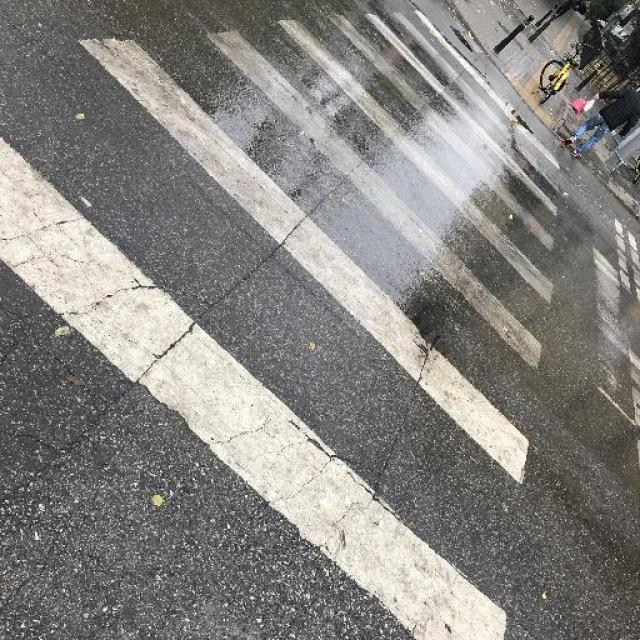faded_crosswalk: (0, 11, 563, 636)
